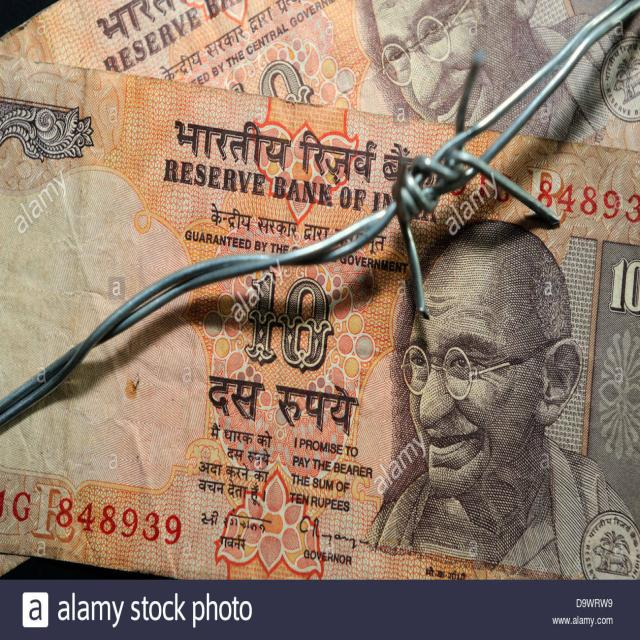10IndianRupees: (0, 68, 640, 566)
